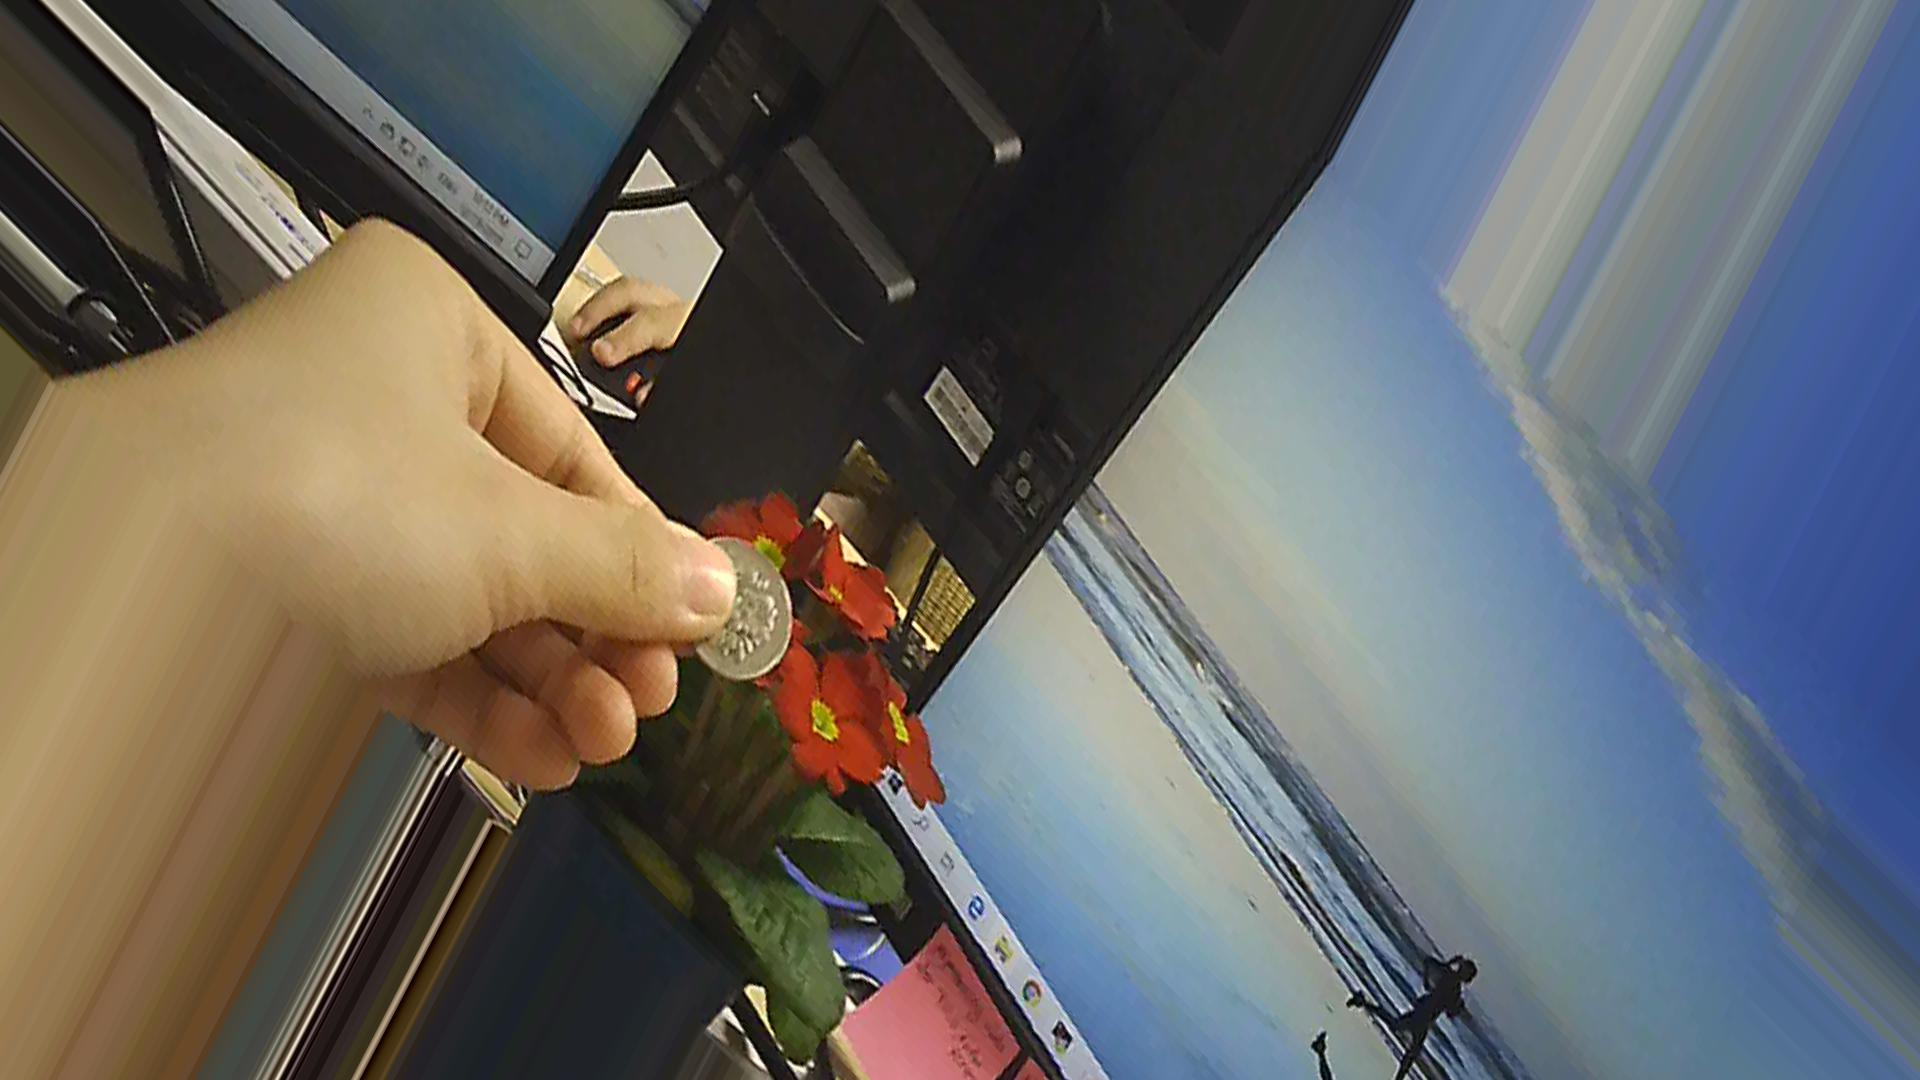100 Yen: (678, 535, 808, 691)
